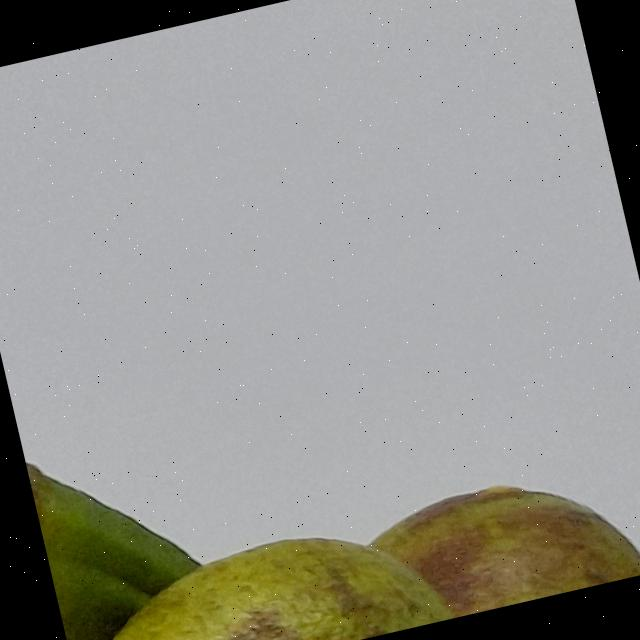mangosteen: (7, 243, 640, 640)
